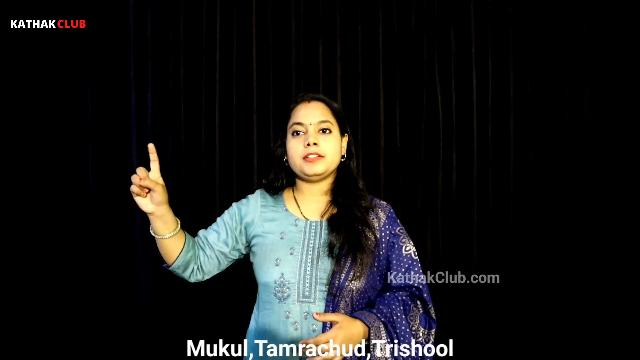tamrachud: (104, 126, 184, 238)
